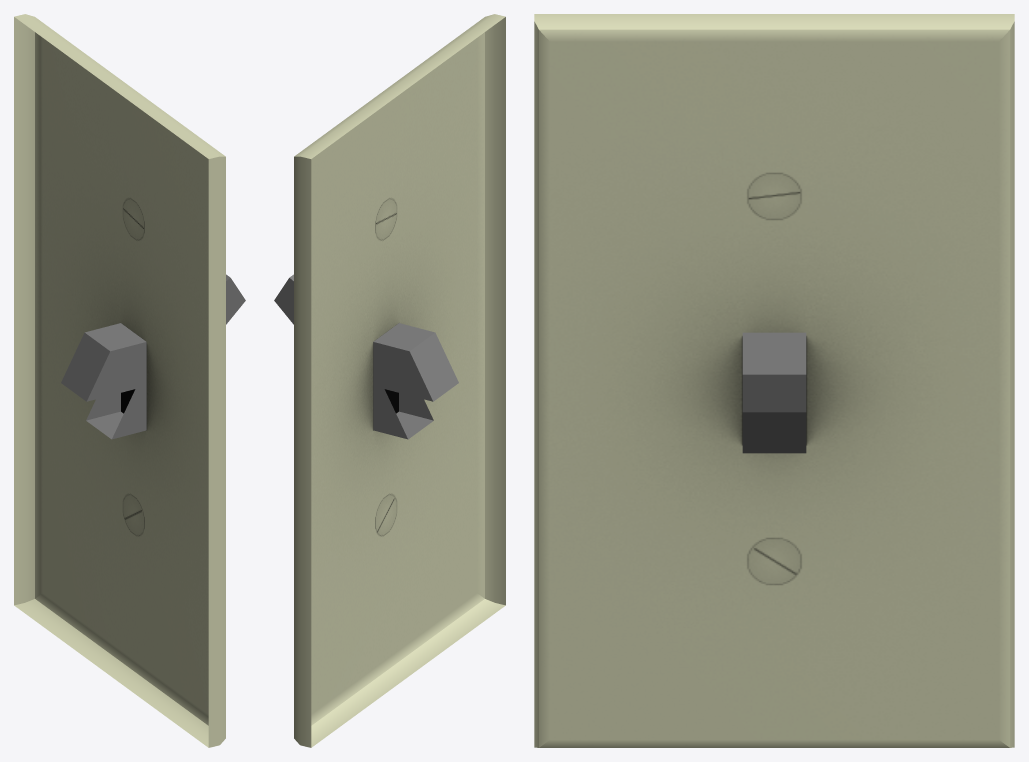
File: Lightswitch.obj
The picture shows the model from 3 angles, left to right: view 1: azimuth 30°, elevation 25°; view 2: azimuth 150°, elevation 25°; view 3: azimuth 270°, elevation 25°; orthographic projection. The views are drawn at different scales.
Visible parts, largest first — view 1: pCube1, pCylinder1; view 2: pCube1, pCylinder1; view 3: pCube1, pCylinder1.
Part boxes in pixels (x1=…): pCube1: x1=14, y1=14, x2=225, y2=747; pCylinder1: x1=61, y1=274, x2=245, y2=439; pCube1: x1=294, y1=14, x2=505, y2=747; pCylinder1: x1=274, y1=274, x2=458, y2=439; pCube1: x1=534, y1=14, x2=1014, y2=747; pCylinder1: x1=742, y1=332, x2=806, y2=453.
Size of the model in its own units: 0.2831 by 1 by 0.5993.
